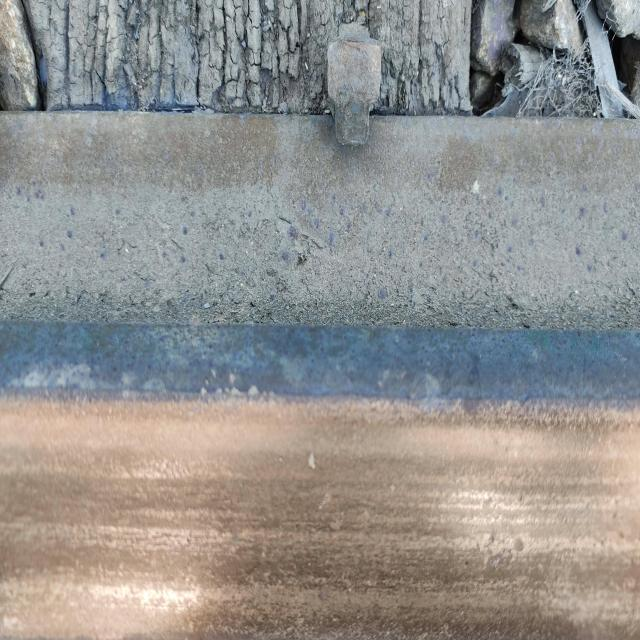Good Fasteners: (327, 23, 381, 144)
